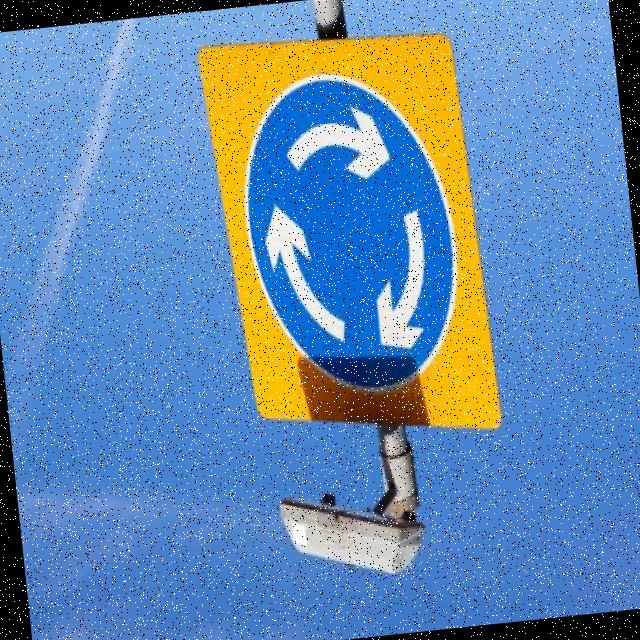round_about: (228, 60, 473, 411)
